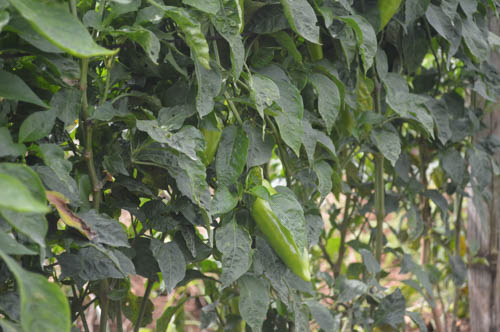ChiliPepper: (251, 200, 310, 280)
